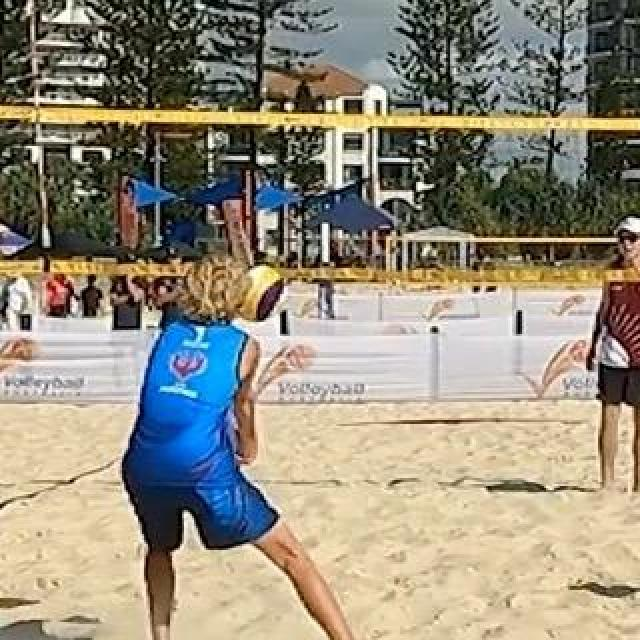volleyball: (230, 260, 288, 320)
